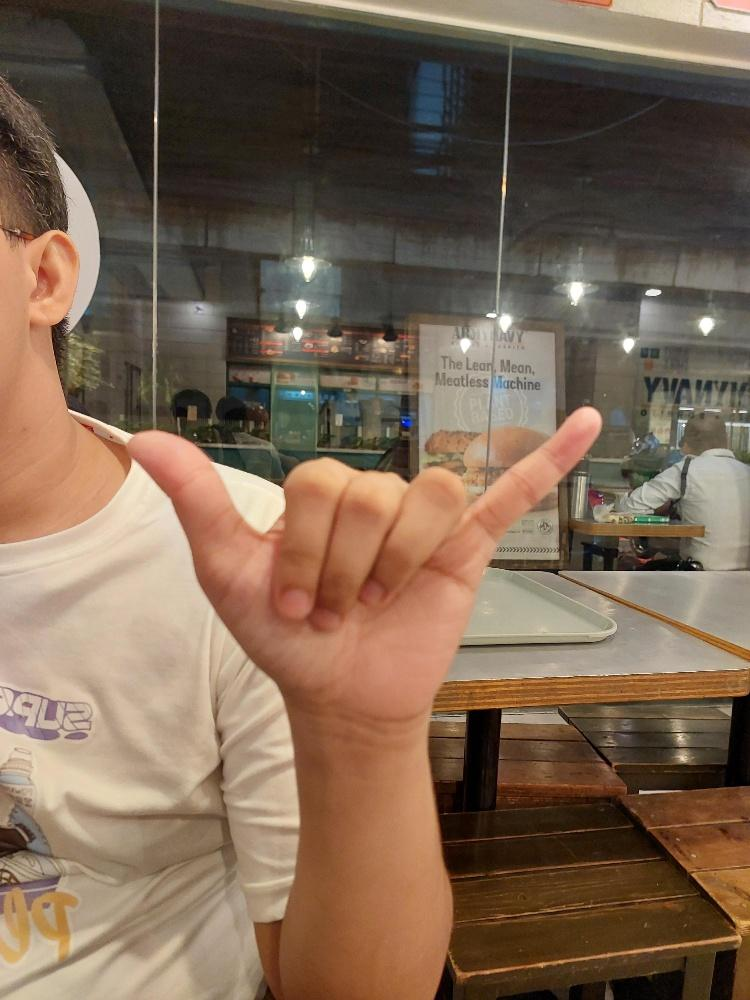y: (122, 401, 604, 721)
